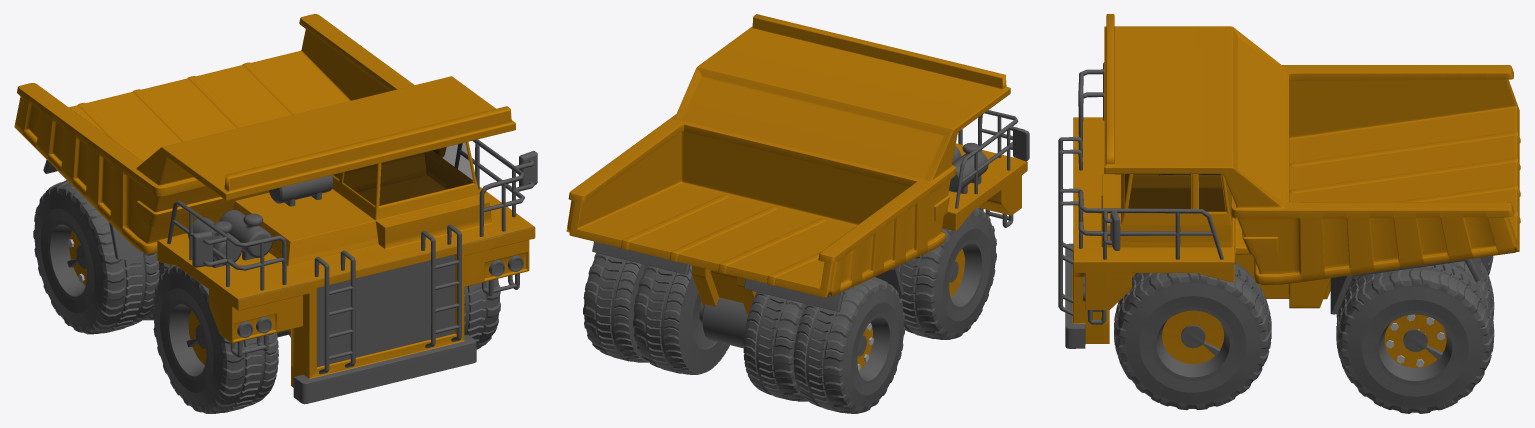
The model's file is Truck 2.fbx.
3 renders of one model, left to right at view 1: azimuth 30°, elevation 25°; view 2: azimuth 150°, elevation 25°; view 3: azimuth 270°, elevation 25°, orthographic. The views are drawn at different scales.
Parts seen in each view (by area): view 1: Body, Back_Right_Wheels, Front_Right_Wheel, Front_Left_Wheel; view 2: Body, Back_Right_Wheels, Back_Left_Wheel, Front_Right_Wheel, Back_Wheel_Bar; view 3: Body, Back_Left_Wheel, Front_Left_Wheel.
Part boxes in pixels (x1,y1,x2,y2): Body: (14, 14, 537, 404); Back_Right_Wheels: (33, 180, 169, 334); Front_Right_Wheel: (152, 265, 278, 413); Front_Left_Wheel: (464, 279, 500, 349); Body: (566, 14, 1029, 370); Back_Right_Wheels: (743, 277, 904, 413); Back_Left_Wheel: (583, 253, 729, 374); Front_Right_Wheel: (897, 207, 996, 339); Back_Wheel_Bar: (699, 297, 747, 348); Body: (1058, 14, 1520, 367); Back_Left_Wheel: (1336, 261, 1494, 413); Front_Left_Wheel: (1114, 262, 1271, 410).
Size of the model in its own units: 998 by 740 by 1169.
